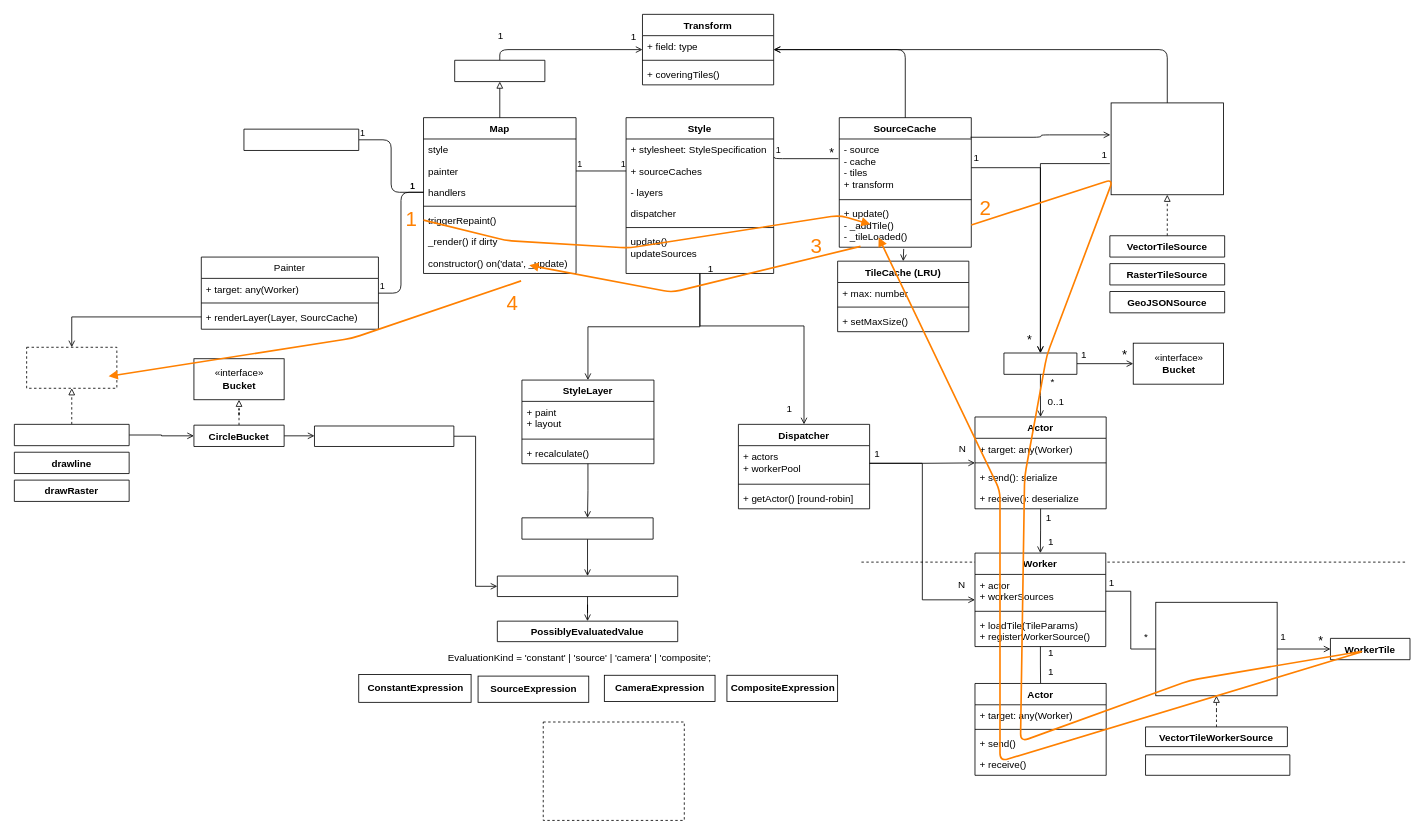
Image size: 1424x835. Some labels were removed from this diagram. The centre of each missing label's shape, as x and y in pixels:
"<<Interface>> Expression + type + evaluate() + serialize()" goes at (x=613, y=770).
"<<Interface>> Source + field1: Type + field2: Type + loadTile()" goes at (x=1166, y=148).
"<<Interface>> WorkerSource + field1: Type + field2: Type + loadTile()" goes at (x=1216, y=648).
"Camera" goes at (x=499, y=70).
"drawCircles" goes at (x=71, y=435).
"GeoJSONWorkerSource" goes at (x=1217, y=764).
"HandlerManager" goes at (x=301, y=139).
"PossiblyEvaluated" goes at (x=587, y=528).
"PossiblyEvaluatedPropertyValue" goes at (x=587, y=586).
"ProgramConfiguration" goes at (x=384, y=435).
"Tile" goes at (x=1040, y=363).
"«interface» draw" goes at (x=71, y=367).
